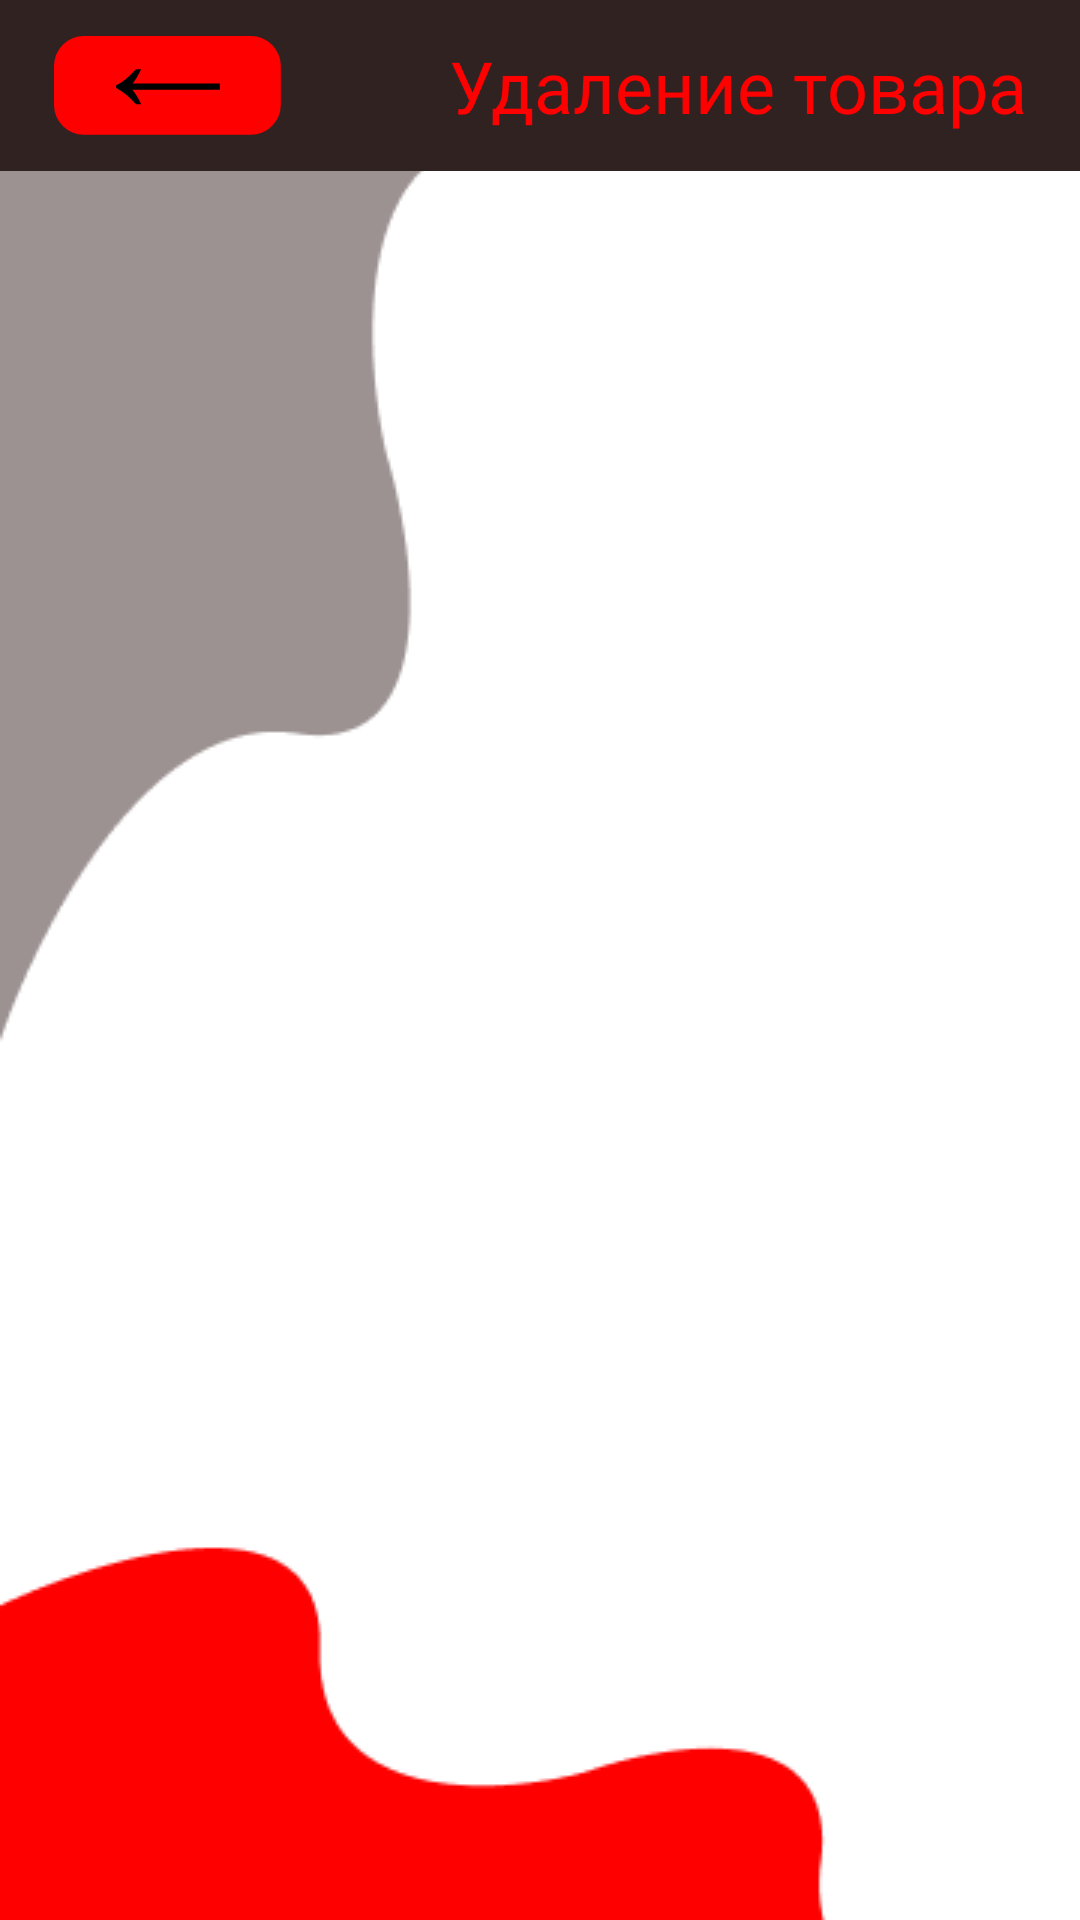

Screen size 1080 × 1920. Icon name, then its center in pixels as point (x, y):
back: point (167, 85)
